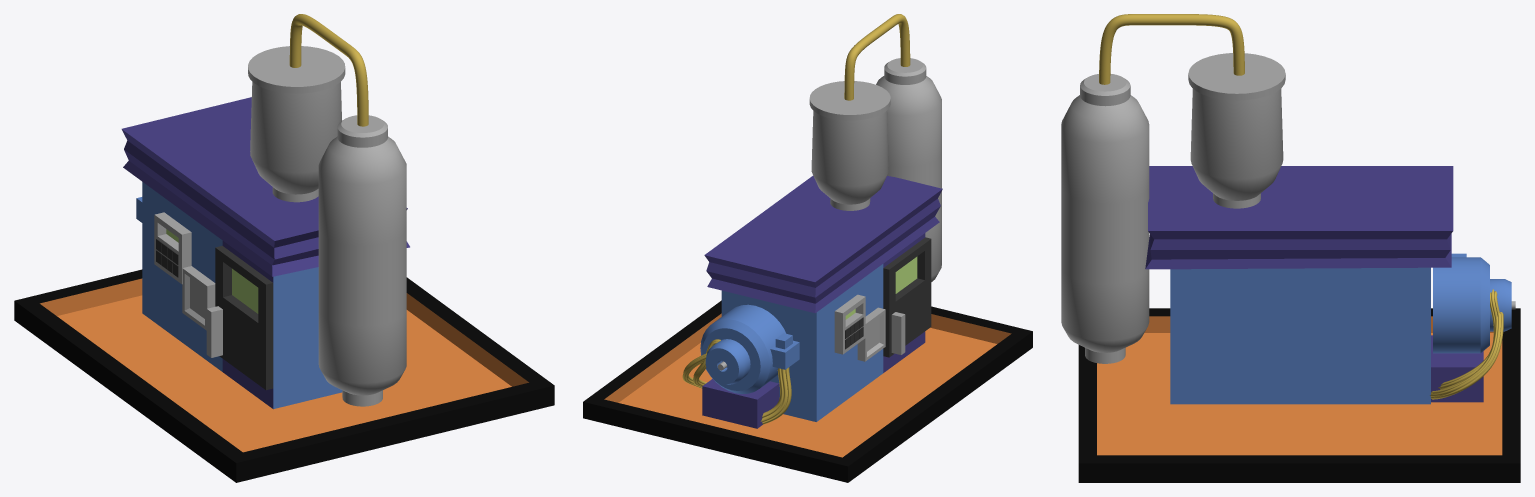
File: SurfaceArea_Refining.fbx
3 renders of one model, left to right at view 1: azimuth 30°, elevation 25°; view 2: azimuth 150°, elevation 25°; view 3: azimuth 270°, elevation 25°, orthographic. The views are drawn at different scales.
Parts seen in each view (by area): view 1: Refining, Cylinder.312, Cube.323, Cube.324, Cylinder.313, NurbsPath.009, Cube.326, Cube.325; view 2: Refining, Cube.324, Cube.323, Cylinder.313, Cylinder.312, Cylinder.314, Cube.327, NurbsPath.009, Cube.325, Cube.326, Cube.328, NurbsPath.010 (+1 smaller); view 3: Refining, Cube.323, Cube.324, Cylinder.312, Cylinder.313, Cylinder.314, NurbsPath.009, Cube.327, NurbsPath.011.
Boxes of the visible parts, x1,y1,x2,y2 form: Refining: [14, 269, 554, 482]; Cylinder.312: [318, 115, 406, 406]; Cube.323: [142, 182, 342, 409]; Cube.324: [121, 97, 409, 276]; Cylinder.313: [248, 46, 345, 202]; NurbsPath.009: [289, 14, 368, 126]; Cube.326: [182, 266, 215, 330]; Cube.325: [154, 212, 191, 284]; Refining: [583, 300, 1032, 482]; Cube.324: [704, 176, 942, 313]; Cube.323: [721, 233, 931, 421]; Cylinder.313: [809, 81, 890, 210]; Cylinder.312: [876, 58, 941, 281]; Cylinder.314: [700, 304, 785, 394]; Cube.327: [702, 379, 779, 428]; NurbsPath.009: [844, 14, 910, 100]; Cube.325: [834, 294, 865, 354]; Cube.326: [857, 307, 885, 361]; Cube.328: [770, 333, 799, 369]; NurbsPath.010: [760, 367, 791, 424]; Refining: [1078, 308, 1520, 482]; Cube.323: [1170, 267, 1430, 404]; Cube.324: [1145, 166, 1453, 269]; Cylinder.312: [1061, 74, 1149, 363]; Cylinder.313: [1188, 53, 1285, 208]; Cylinder.314: [1433, 257, 1515, 353]; NurbsPath.009: [1099, 14, 1244, 84]; Cube.327: [1431, 335, 1483, 402]; NurbsPath.011: [1430, 289, 1503, 399].
Size of the model in its own units: 2.61 by 3.28 by 3.
